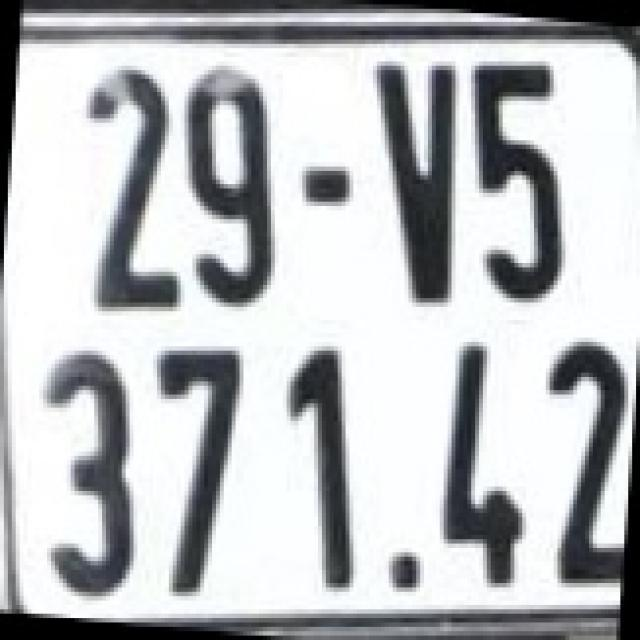1: (282, 346, 370, 596)
2: (82, 61, 180, 312), (546, 338, 632, 588)
3: (39, 350, 138, 596)
4: (436, 338, 530, 588)
5: (471, 56, 569, 302)
7: (153, 342, 247, 596)
9: (185, 61, 282, 307)
V: (372, 56, 460, 302)
